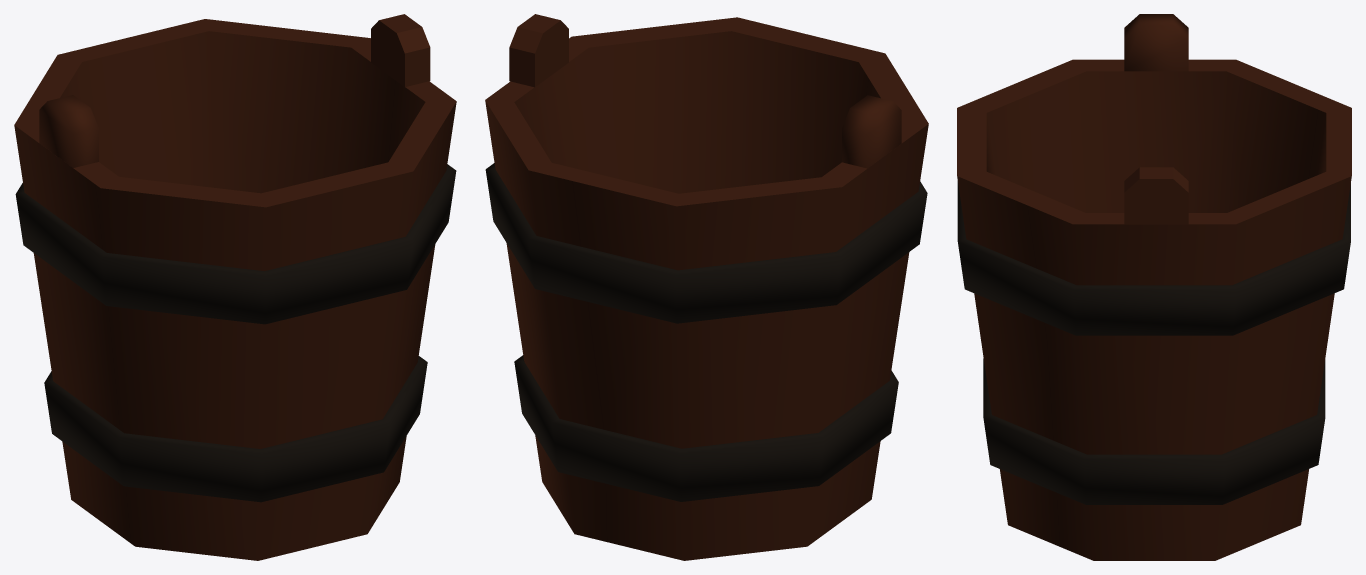
The model's file is woodbucket.FBX.
3 views of the same model, side by side, from view 1: azimuth 30°, elevation 25°; view 2: azimuth 150°, elevation 25°; view 3: azimuth 270°, elevation 25° (orthographic). The views are drawn at different scales.
Visible parts, largest first — view 1: Object001, Cylinder001; view 2: Object001, Cylinder001; view 3: Object001, Cylinder001.
Boxes of the visible parts, x1,y1,x2,y2 form: Object001: (14,14,456,560); Cylinder001: (15,164,456,502); Object001: (485,14,928,560); Cylinder001: (485,163,927,501); Object001: (957,14,1351,560); Cylinder001: (957,181,1350,504).
Size of the model in its own units: 186 by 212 by 188.
